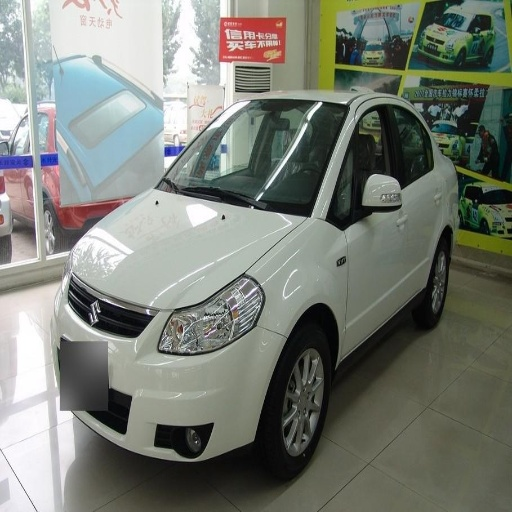front_bumper: (57, 285, 286, 462)
front_glass: (156, 100, 349, 214)
front_left_door: (337, 101, 407, 349)
